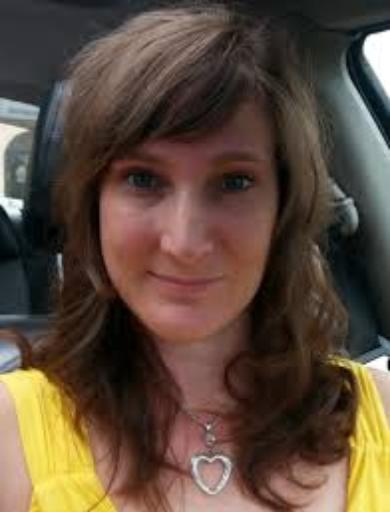left_eye: (212, 171, 259, 197)
left_lip_corner: (215, 272, 233, 289)
right_eye: (118, 168, 171, 196)
right_lip_corner: (144, 265, 162, 286)
